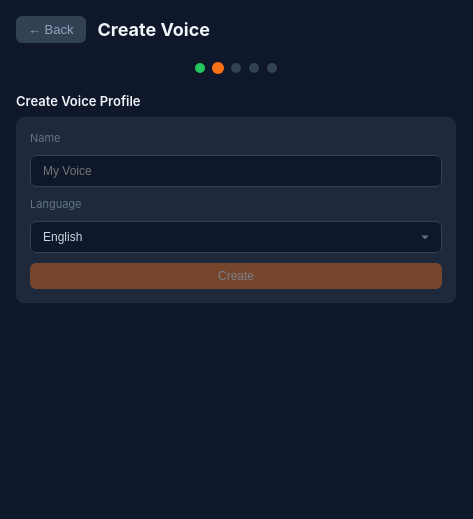
Scenario: Create Voice › can finish without a test when no text-to-speech engine is downloaded
This screenshot has width=473, height=519.
Type "Me" into the field with placeholder "My Voice" at (236, 171), box [30, 155, 442, 187]
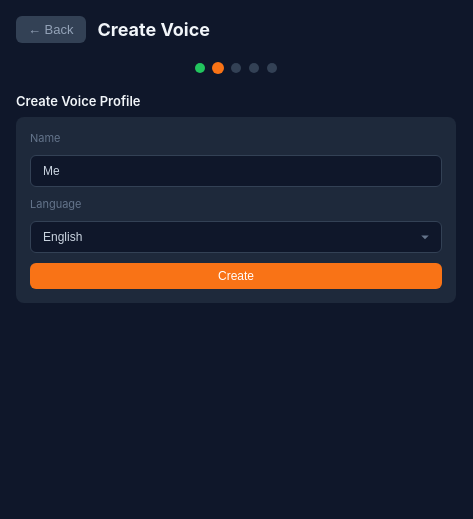
Click the button "Create" at (236, 276), box [30, 263, 442, 289]
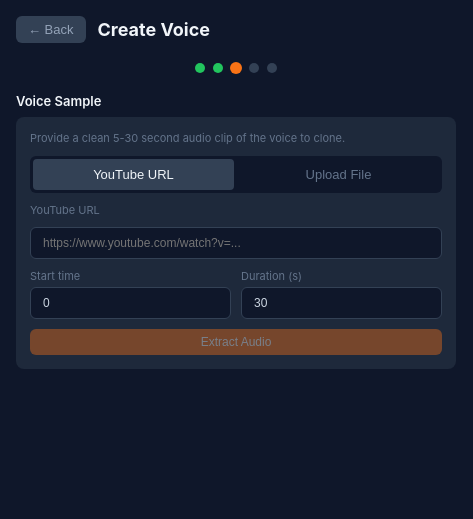
Type "https://www.youtube.com/watch?v=abc" into the field with placeholder "https://www.youtube.com/watch?v=..." at (236, 243), box [30, 227, 442, 259]
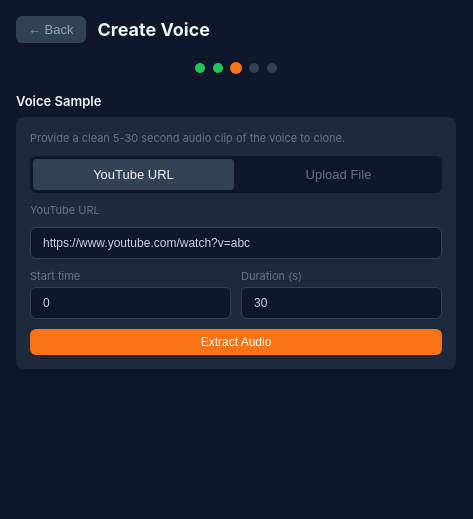
Click the button "Extract Audio" at (236, 342), box [30, 329, 442, 355]
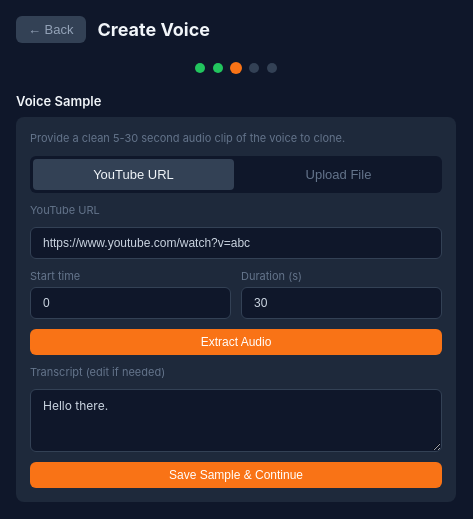
Click the button "Save Sample & Continue" at (236, 475), box [30, 462, 442, 488]
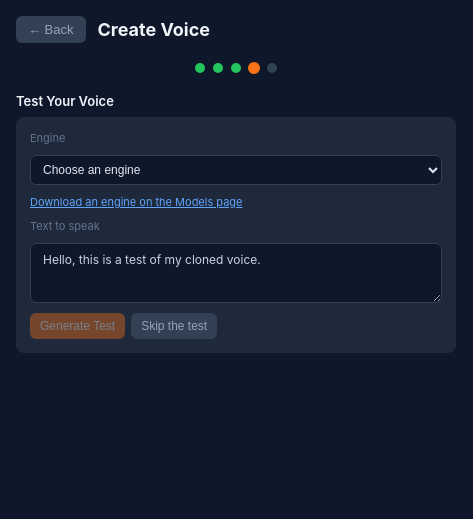
Now the text "Test Your Voice" is shown, box [16, 93, 114, 109]
Click the button "Skip the test" at (174, 326), box [131, 313, 217, 339]
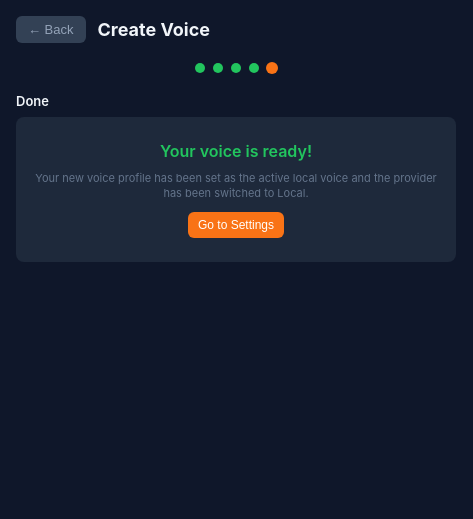
Now the text "Your voice is ready!" is shown, box [160, 141, 312, 161]
